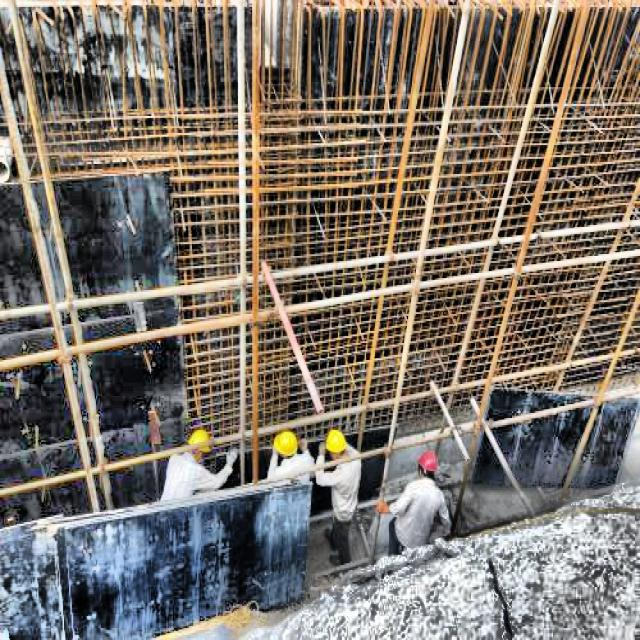helmet: (188, 427, 214, 464), (272, 430, 300, 464), (324, 428, 347, 464), (416, 451, 439, 481)
